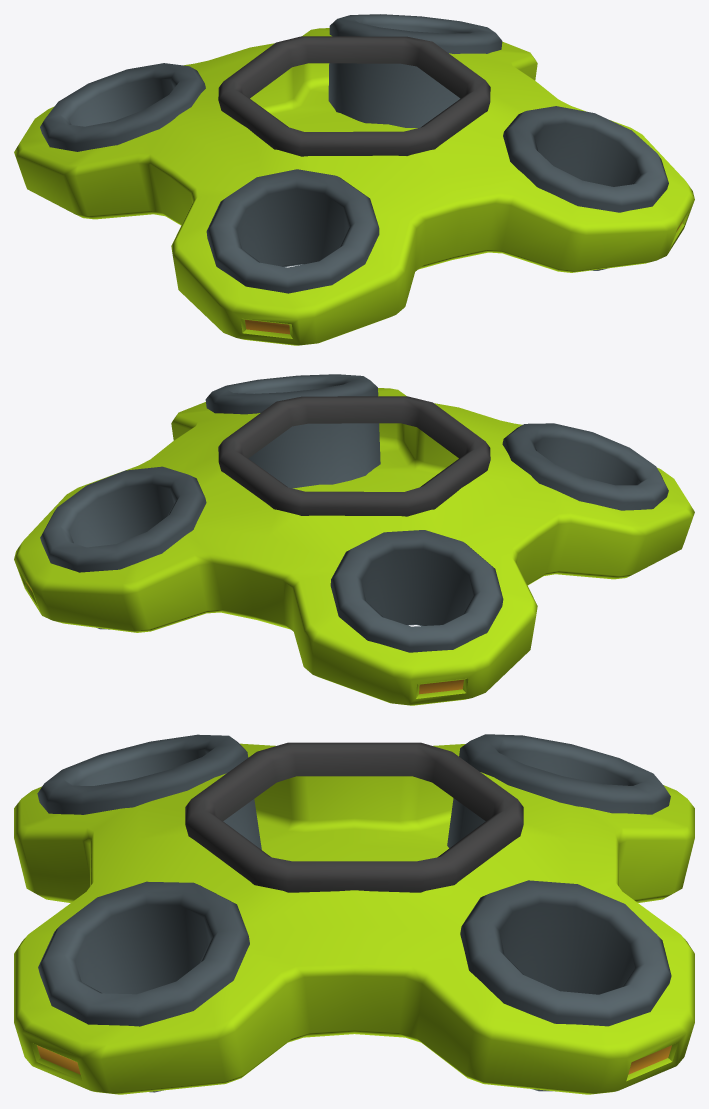
Rendered from drone_1_002.fbx.
3 renders of one model, top to bottom at view 1: azimuth 30°, elevation 25°; view 2: azimuth 150°, elevation 25°; view 3: azimuth 270°, elevation 25°, orthographic. The views are drawn at different scales.
Parts seen in each view (by area): view 1: drone_1_002; view 2: drone_1_002; view 3: drone_1_002.
Part boxes in pixels (x1,y1,x2,y2): drone_1_002: (14,14,694,345); drone_1_002: (14,374,694,705); drone_1_002: (14,734,694,1094).
Bounding box in the file's own units: 353 × 353 × 98.43.
